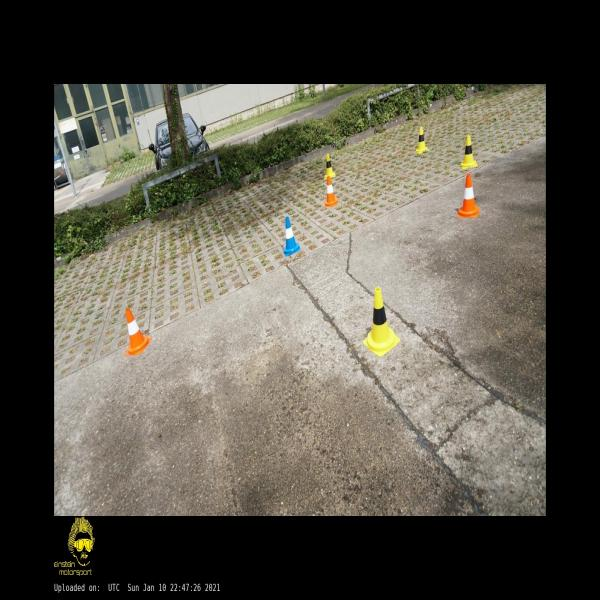blue_cone: (283, 217, 301, 256)
orange_cone: (125, 308, 152, 355), (458, 175, 480, 217), (325, 176, 338, 206)
yellow_cone: (363, 288, 400, 356), (461, 136, 477, 168), (416, 128, 428, 152), (325, 154, 335, 177)
